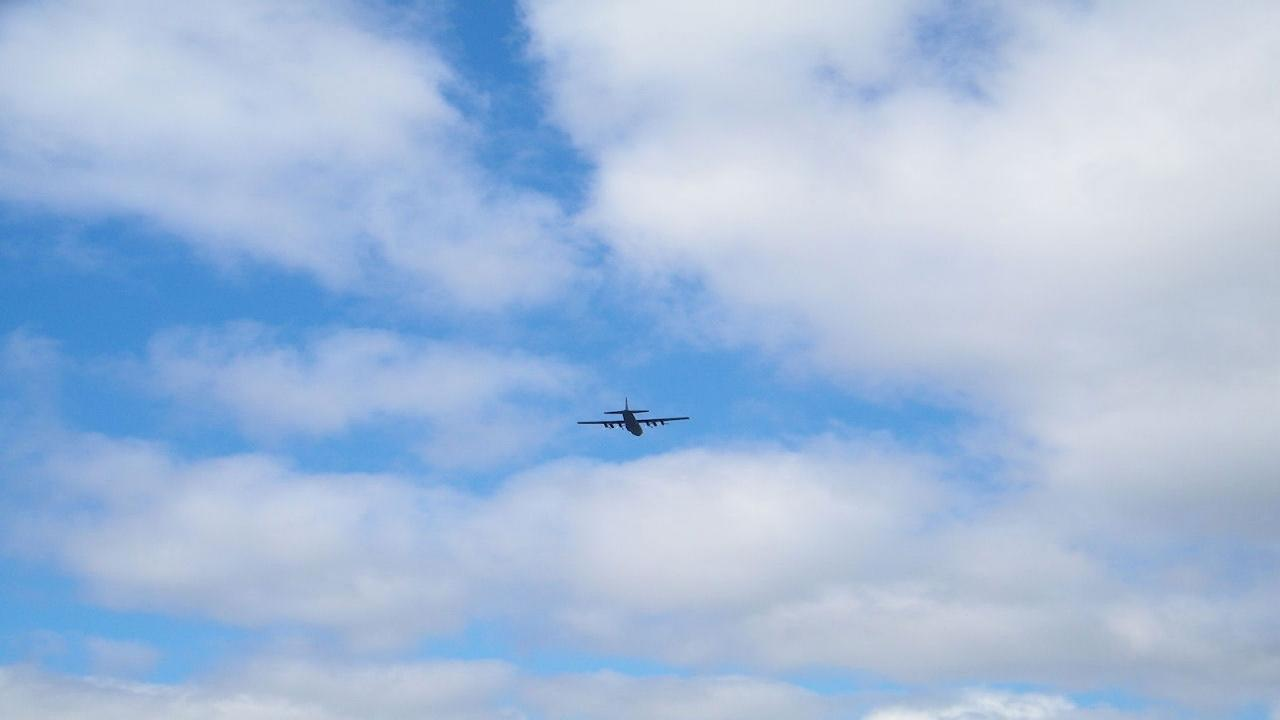Airplane: (558, 393, 707, 446)
